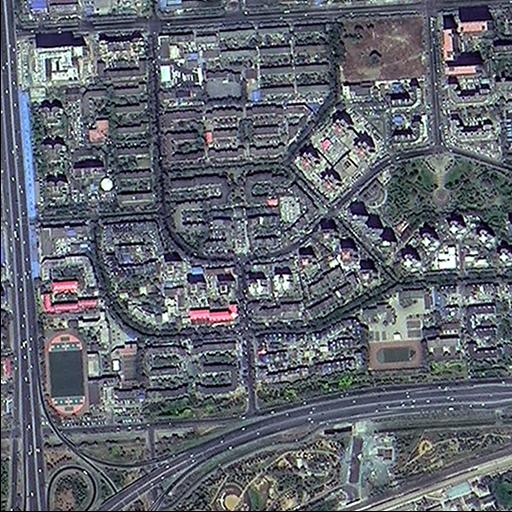school: (39, 312, 139, 422), (360, 286, 431, 373)
